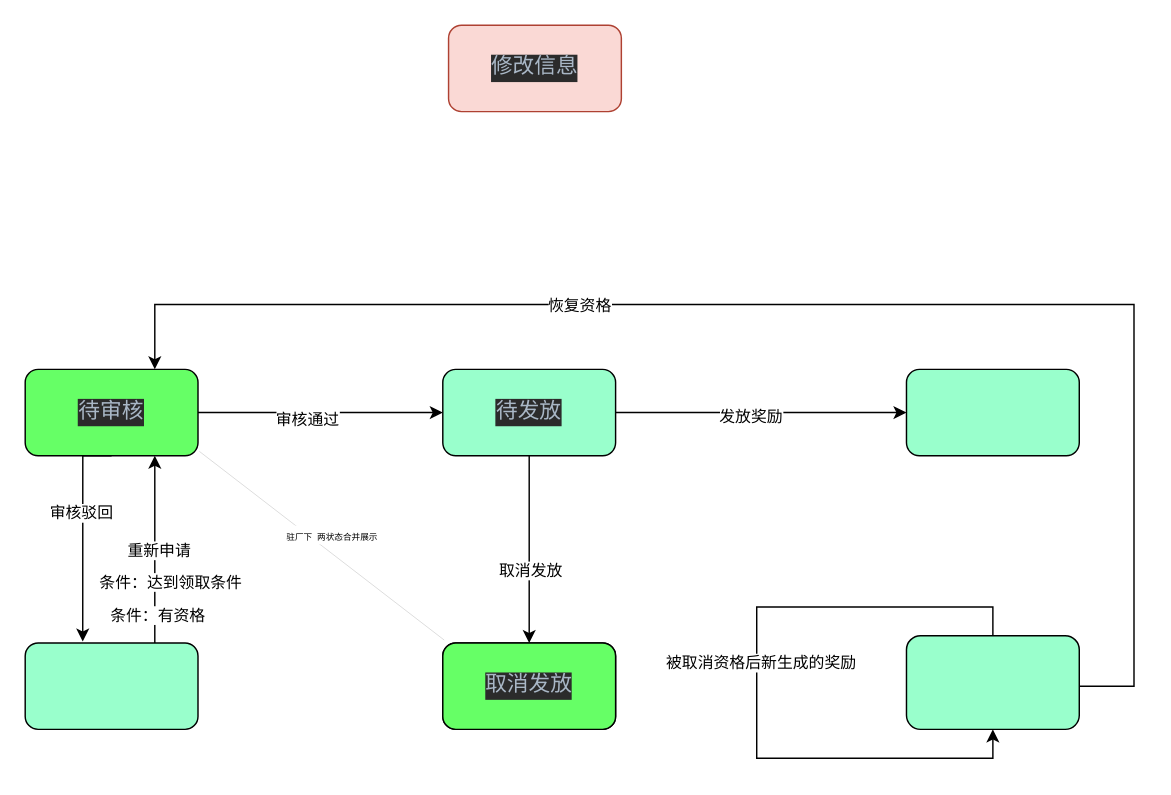
Some shapes in this 1171 by 795 pixel diagram are drawn without their labels. The centre of each missing label's shape, as x and y in pixels:
失效 不可领取: point 992,681
已发放: point 992,412
已驳回: point 111,685
